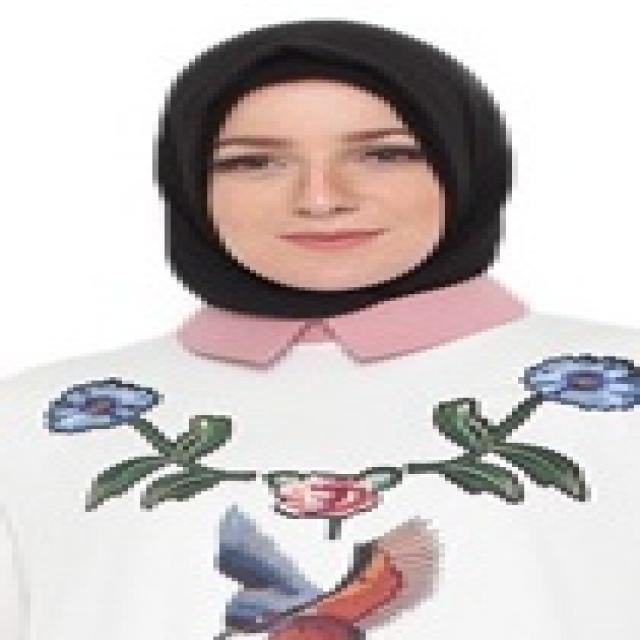head: (158, 11, 513, 323)
